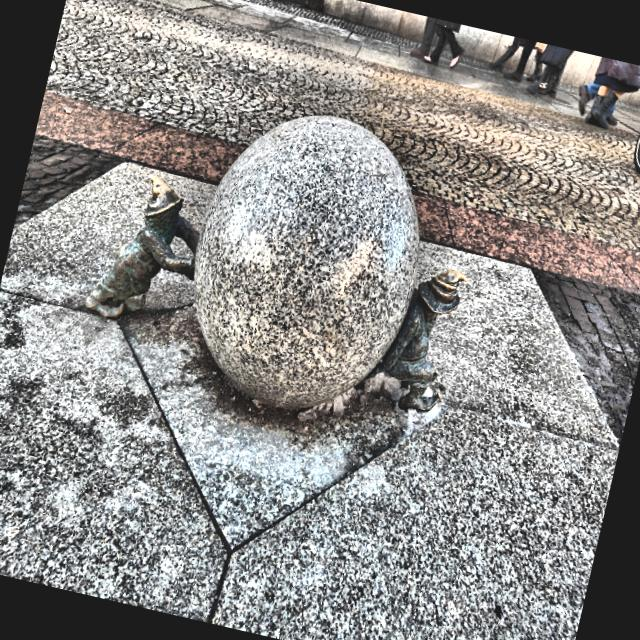Syzyfki: (66, 61, 510, 457)
